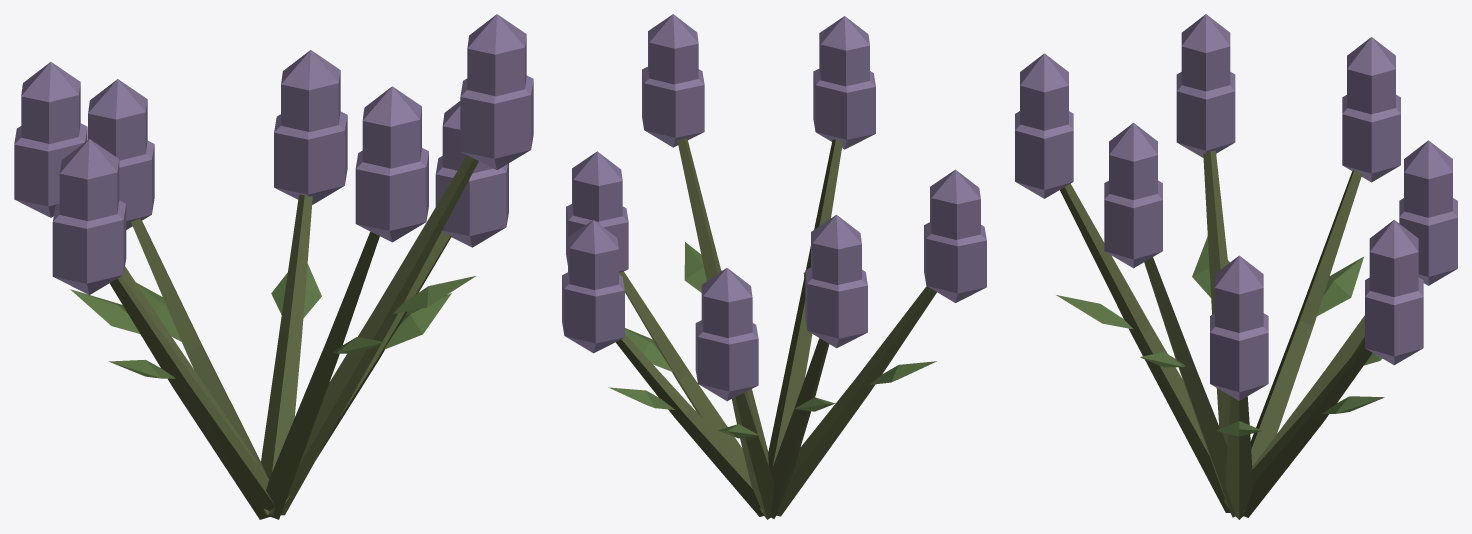
Rendered from Plant_Feature_Hills_HeatherTuft_001_LOD1.glb.
3 views of the same model, side by side, from view 1: azimuth 30°, elevation 25°; view 2: azimuth 150°, elevation 25°; view 3: azimuth 270°, elevation 25° (orthographic). The views are drawn at different scales.
Parts seen in each view (by area): view 1: Plant_Feature_Hills_HeatherTuft_001_LOD1; view 2: Plant_Feature_Hills_HeatherTuft_001_LOD1; view 3: Plant_Feature_Hills_HeatherTuft_001_LOD1.
Boxes of the visible parts, box(x1,y1,x2,y2) form: Plant_Feature_Hills_HeatherTuft_001_LOD1: box(14, 14, 533, 519); Plant_Feature_Hills_HeatherTuft_001_LOD1: box(562, 14, 986, 519); Plant_Feature_Hills_HeatherTuft_001_LOD1: box(1015, 14, 1457, 519).
Size of the model in its own units: 1.17 by 1.19 by 1.02.
